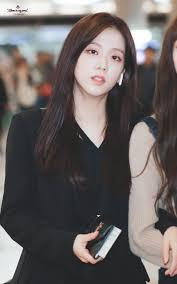earphone: (115, 70, 127, 89)
